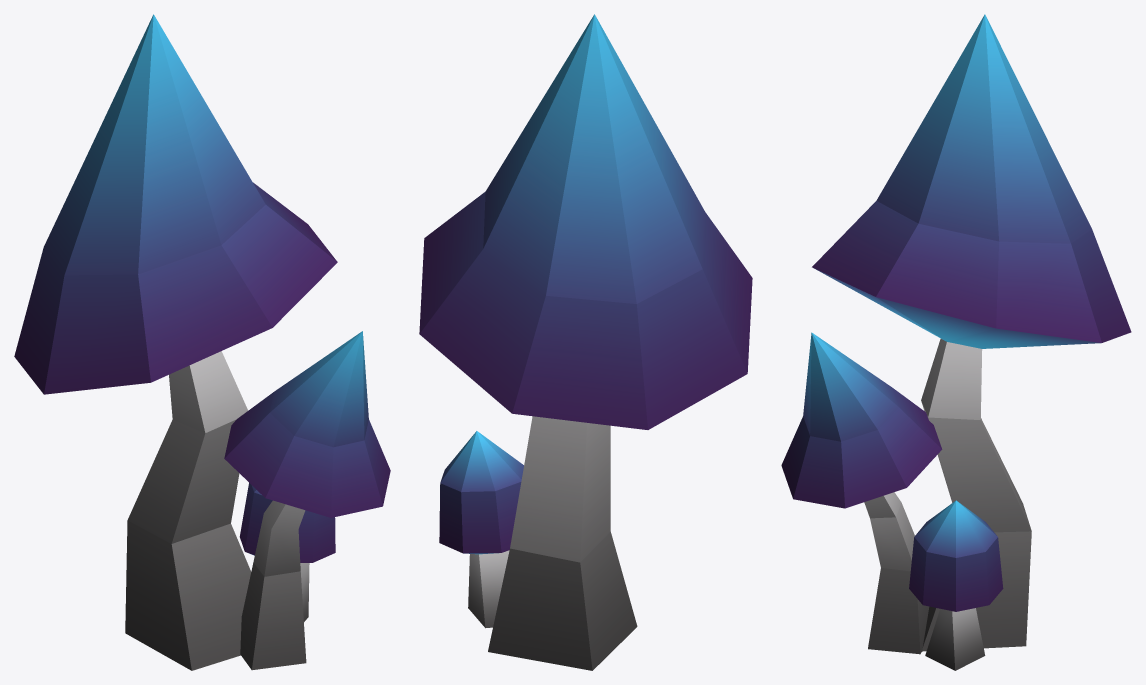
Rendered from Forest_007.fbx.
The picture shows the model from 3 angles, left to right: view 1: azimuth 30°, elevation 25°; view 2: azimuth 150°, elevation 25°; view 3: azimuth 270°, elevation 25°; orthographic projection. The views are drawn at different scales.
Parts seen in each view (by area): view 1: Forest_007; view 2: Forest_007; view 3: Forest_007.
Boxes of the visible parts, left/top/right/bottom form: Forest_007: left=14, top=14, right=390, bottom=670; Forest_007: left=419, top=14, right=752, bottom=670; Forest_007: left=781, top=14, right=1131, bottom=670.
Size of the model in its own units: 24.82 by 50.79 by 27.14.
